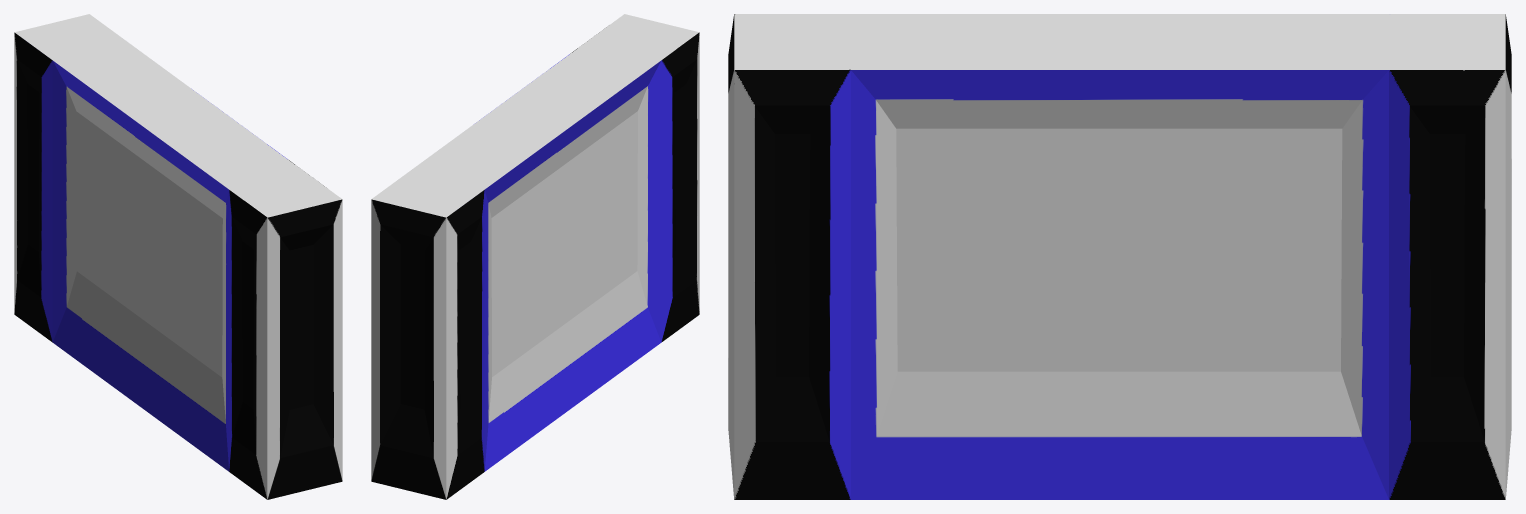
Rendered from WallDivider.fbx.
3 renders of one model, left to right at view 1: azimuth 30°, elevation 25°; view 2: azimuth 150°, elevation 25°; view 3: azimuth 270°, elevation 25°, orthographic. The views are drawn at different scales.
Visible parts, largest first — view 1: WallDivider; view 2: WallDivider; view 3: WallDivider.
Boxes of the visible parts, left/top/right/bottom form: WallDivider: left=14, top=14, right=342, bottom=499; WallDivider: left=371, top=14, right=699, bottom=499; WallDivider: left=728, top=14, right=1511, bottom=499.
Bounding box in the file's own units: 283 × 900 × 1485.
